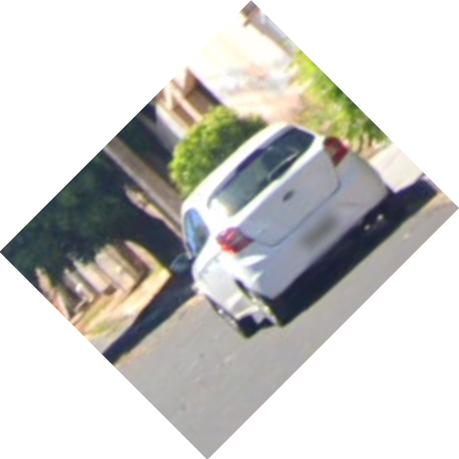car: (176, 118, 405, 344)
